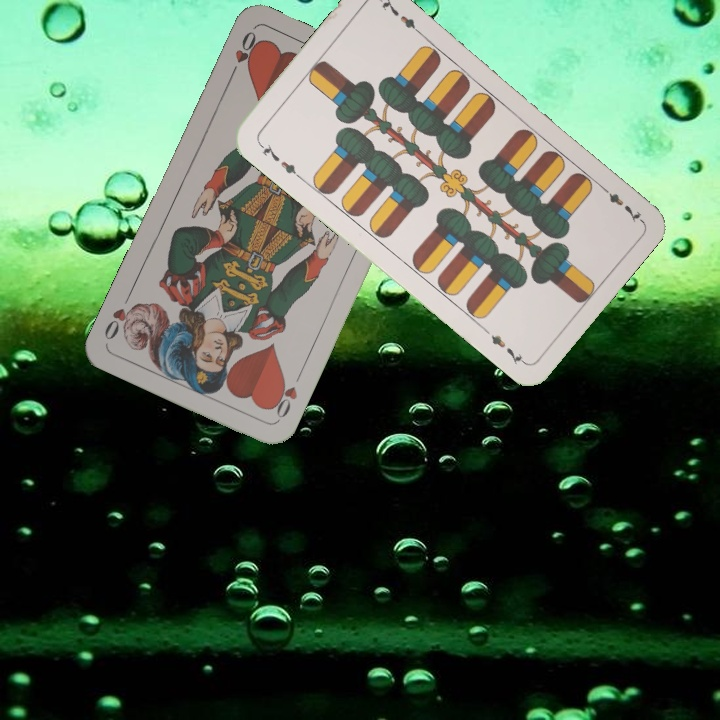E7: (595, 180, 644, 224), (254, 138, 303, 181)
HO: (267, 367, 305, 423), (225, 27, 261, 81)
